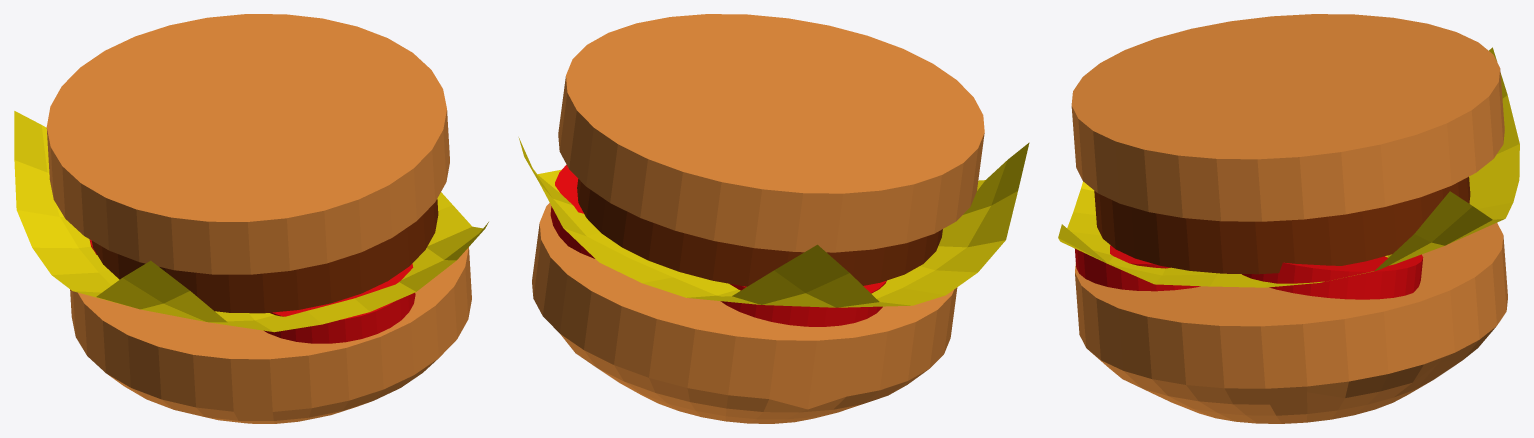
File: burger.glb
3 views of the same model, side by side, from view 1: azimuth 30°, elevation 25°; view 2: azimuth 150°, elevation 25°; view 3: azimuth 270°, elevation 25° (orthographic). The views are drawn at different scales.
Parts seen in each view (by area): view 1: BUtBun, TopBun, Plane, Petty, Tomato 1; view 2: BUtBun, TopBun, Plane, Petty, Tomato 2, Tomato3; view 3: BUtBun, TopBun, Petty, Plane, Tomato3, Tomato 1.
Part boxes in pixels (left/top/right/bottom): BUtBun: left=46, top=14, right=449, bottom=274; TopBun: left=70, top=247, right=471, bottom=423; Plane: left=14, top=111, right=488, bottom=332; Petty: left=91, top=199, right=438, bottom=313; Tomato 1: left=264, top=263, right=415, bottom=343; BUtBun: left=558, top=14, right=984, bottom=252; TopBun: left=532, top=203, right=957, bottom=423; Plane: left=518, top=137, right=1029, bottom=307; Petty: left=577, top=179, right=942, bottom=286; Tomato 2: left=720, top=280, right=886, bottom=326; Tomato3: left=550, top=165, right=594, bottom=258; BUtBun: left=1071, top=14, right=1504, bottom=221; TopBun: left=1075, top=223, right=1507, bottom=423; Petty: left=1094, top=176, right=1470, bottom=274; Plane: left=1058, top=47, right=1519, bottom=287; Tomato3: left=1242, top=254, right=1423, bottom=299; Tomato 1: left=1075, top=245, right=1200, bottom=291.
Bounding box in the file's own units: 2.22 × 1.63 × 2.15.
